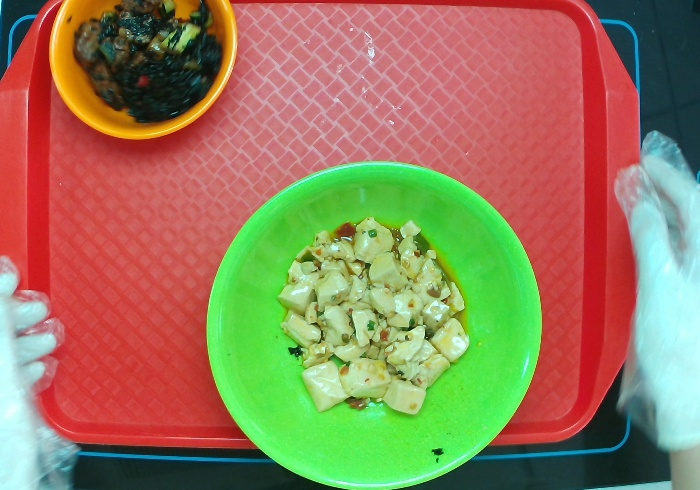YKMZ-Ju_Se_Yuan_Wan: (46, 1, 244, 146)
YKMZ-Lv_Se_Tang_Wan: (204, 152, 546, 477)
